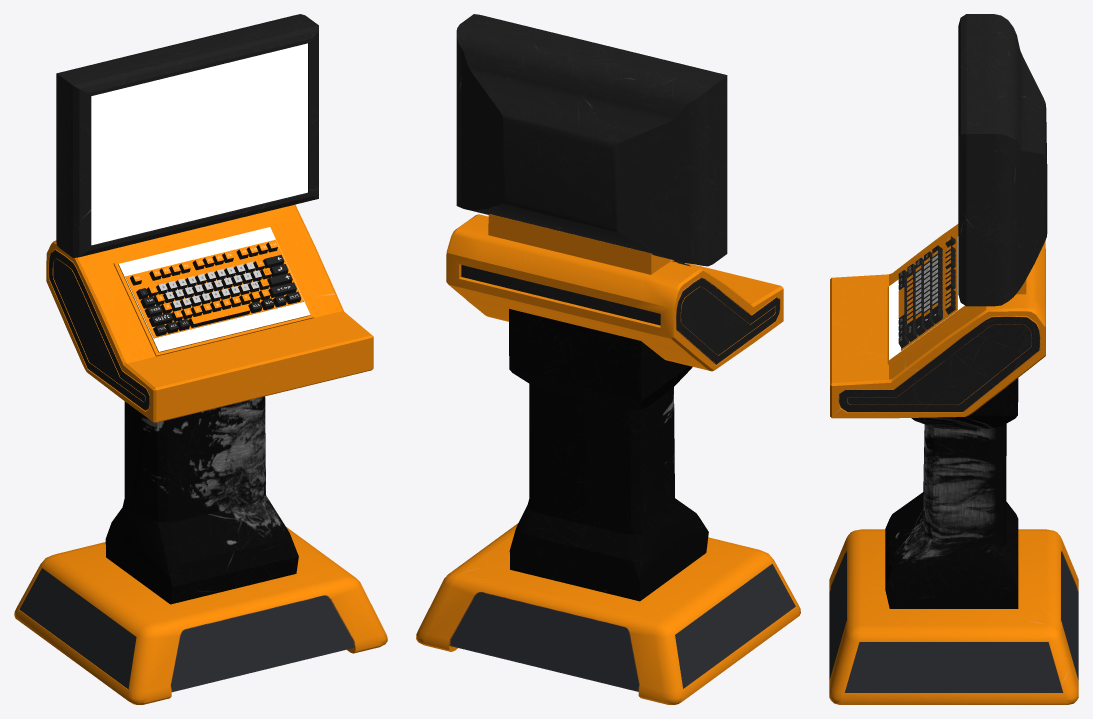
Rendered from console.glb.
The picture shows the model from 3 angles, left to right: view 1: azimuth 30°, elevation 25°; view 2: azimuth 150°, elevation 25°; view 3: azimuth 270°, elevation 25°; orthographic projection. The views are drawn at different scales.
Parts seen in each view (by area): view 1: Cube.004, Cube.012, Cube.007, Cube.006, Cube.010, Cube.005, Cube.011; view 2: Cube.010, Cube.006, Cube.004, Cube.007; view 3: Cube.004, Cube.007, Cube.010, Cube.006, Cube.005, Cube.011.
Boxes of the visible parts, box(x1,y1,x2,y2) form: Cube.004: box(14, 527, 387, 704); Cube.012: box(91, 43, 307, 245); Cube.007: box(46, 204, 373, 422); Cube.006: box(105, 396, 298, 604); Cube.010: box(56, 14, 318, 257); Cube.005: box(125, 239, 303, 338); Cube.011: box(119, 227, 310, 351); Cube.010: box(456, 14, 727, 266); Cube.006: box(509, 309, 708, 601); Cube.004: box(416, 523, 800, 704); Cube.007: box(446, 214, 783, 371); Cube.004: box(829, 529, 1078, 704); Cube.007: box(830, 224, 1045, 418); Cube.010: box(958, 14, 1047, 306); Cube.006: box(885, 378, 1018, 608); Cube.005: box(898, 236, 957, 350); Cube.011: box(889, 236, 964, 359).
Size of the model in its own units: 3.13 by 6.63 by 2.62.
Materials: 83 (83 with a texture image).
